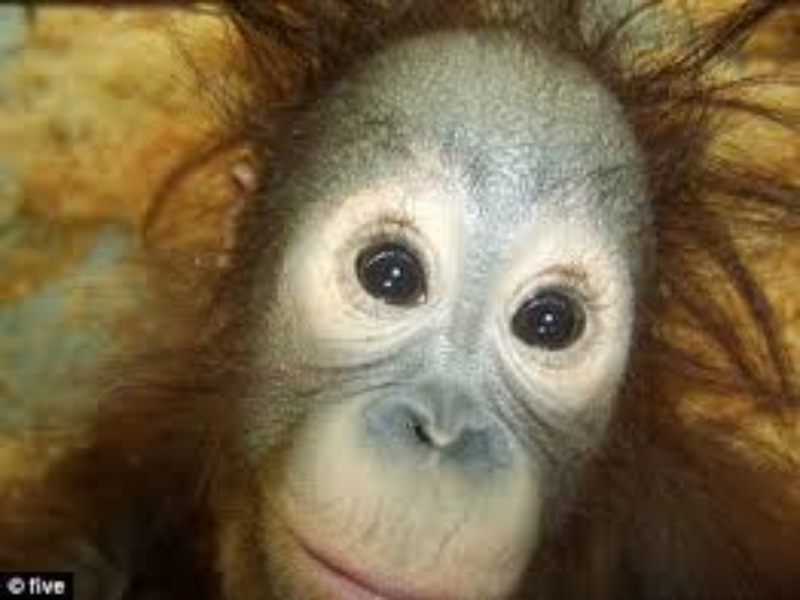monkey: (109, 32, 753, 593)
